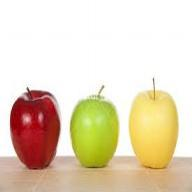apple: (9, 92, 63, 171), (130, 90, 178, 168), (70, 92, 120, 166)
